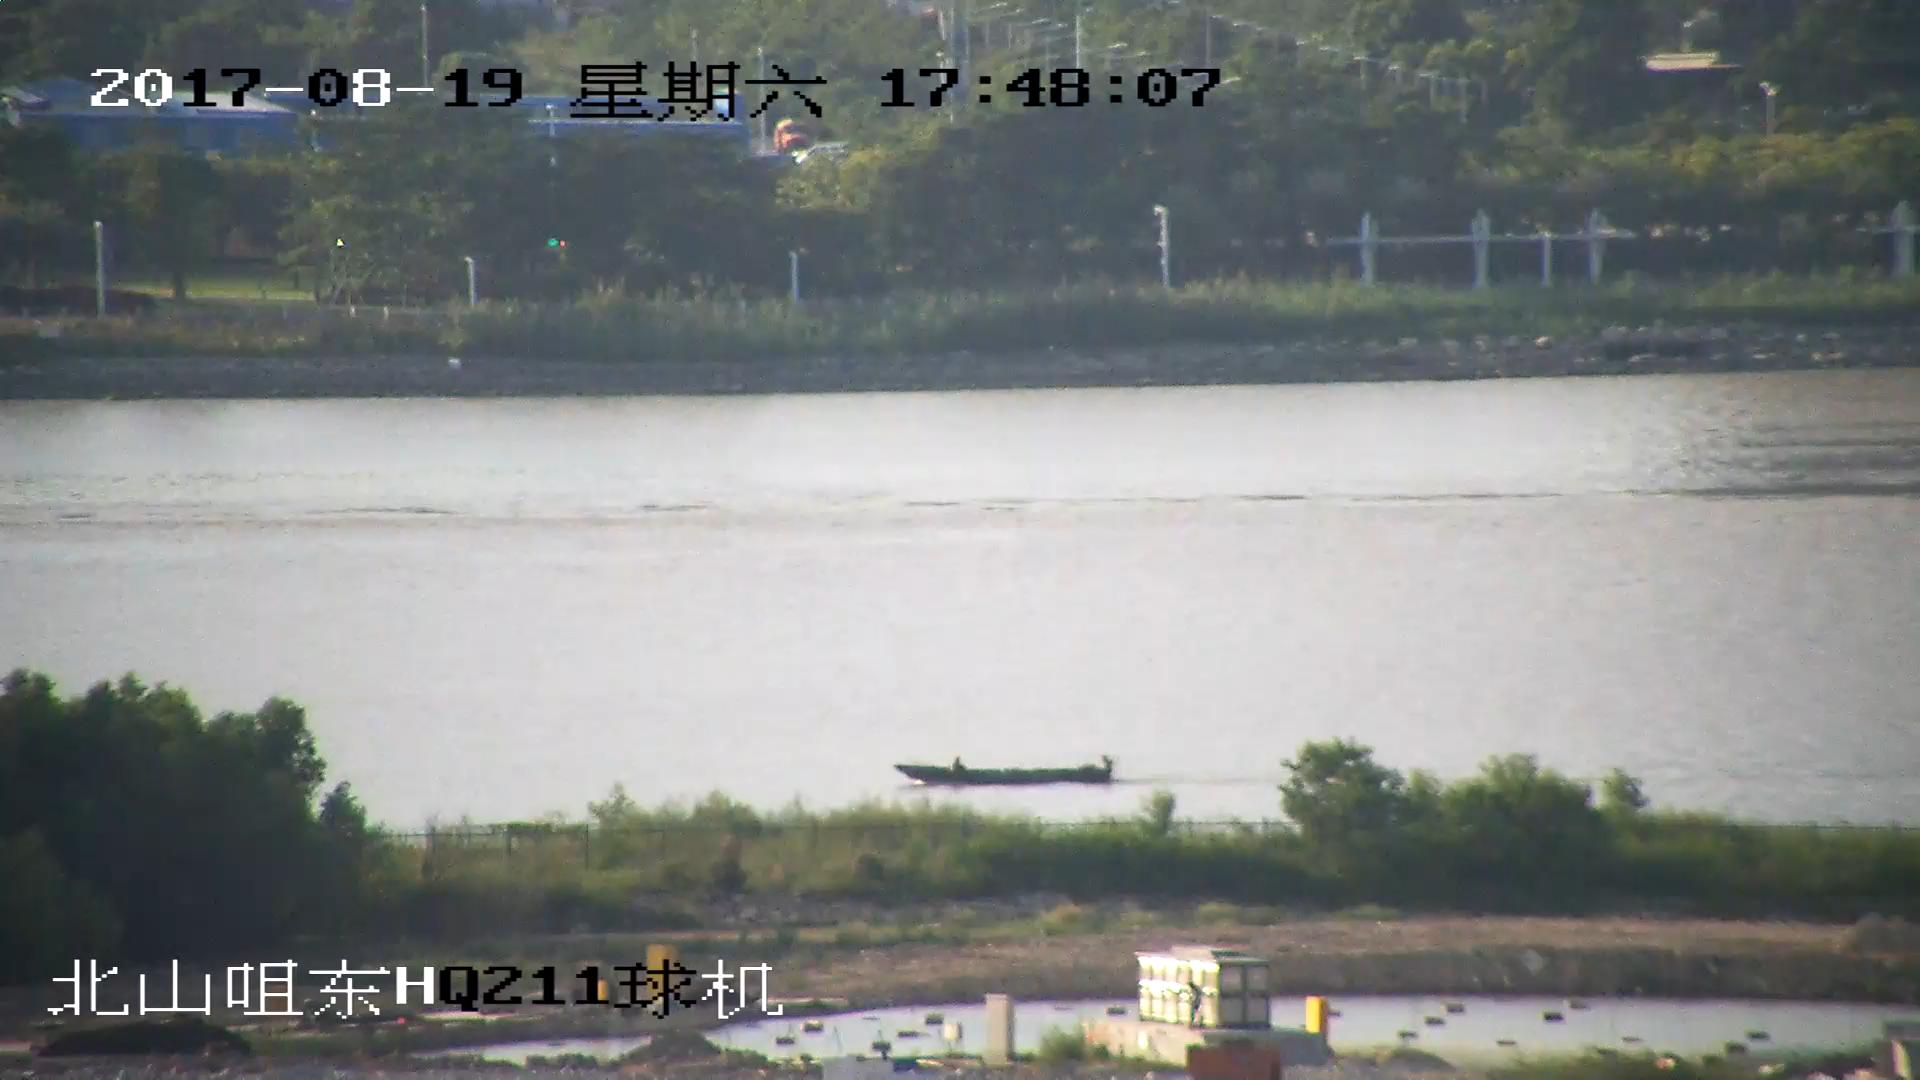fishing boat: (898, 758, 1117, 786)
